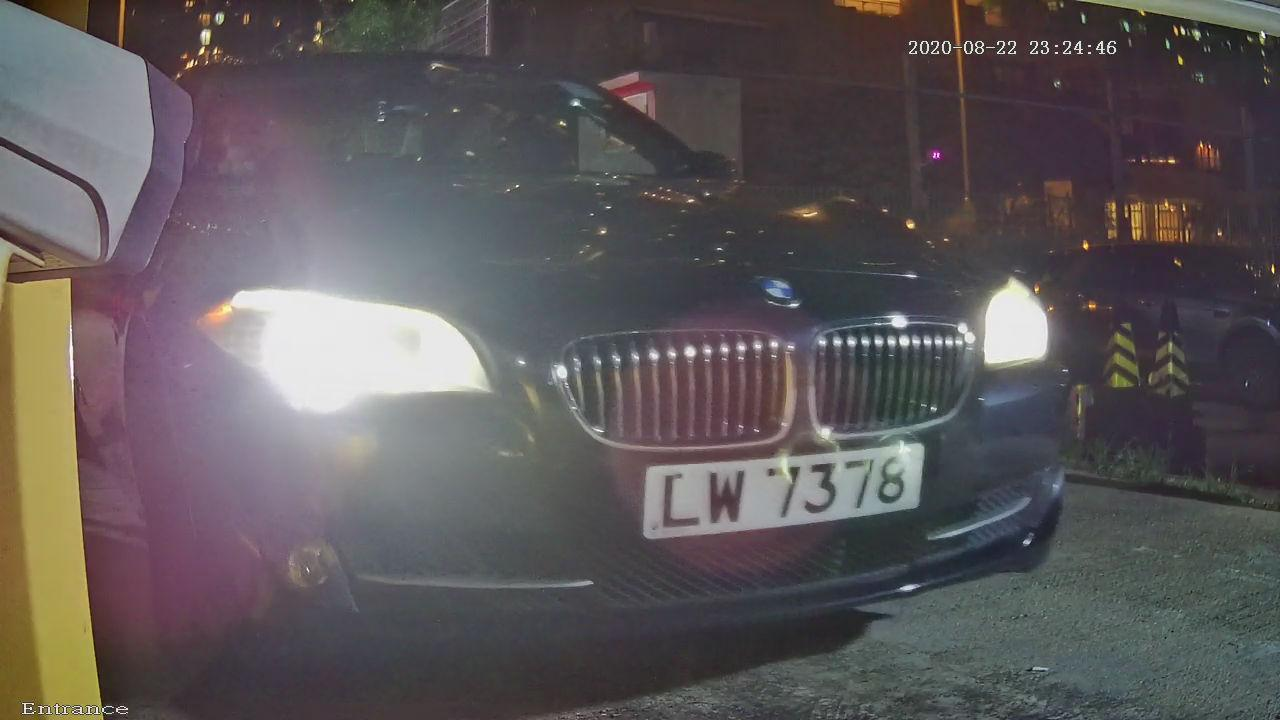Car: (31, 1, 1173, 687)
License Plate: (615, 401, 963, 576)
